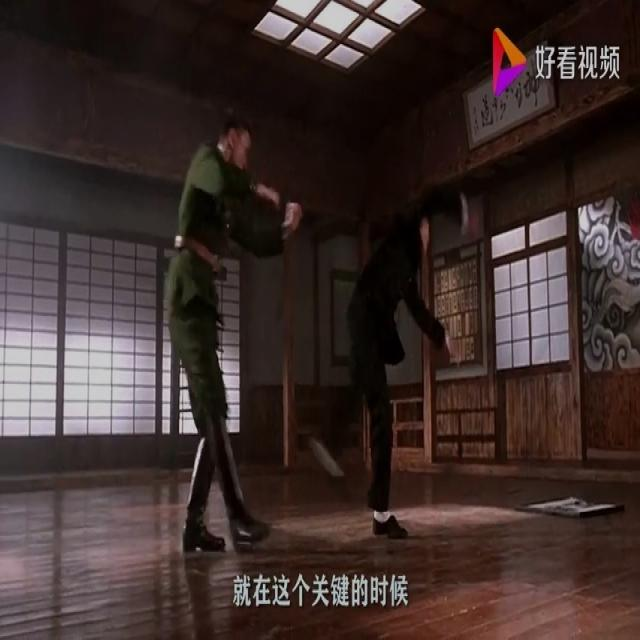fight: (159, 99, 460, 557)
